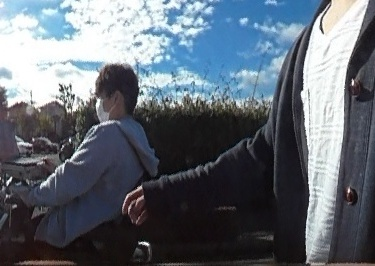person: (16, 59, 157, 241)
